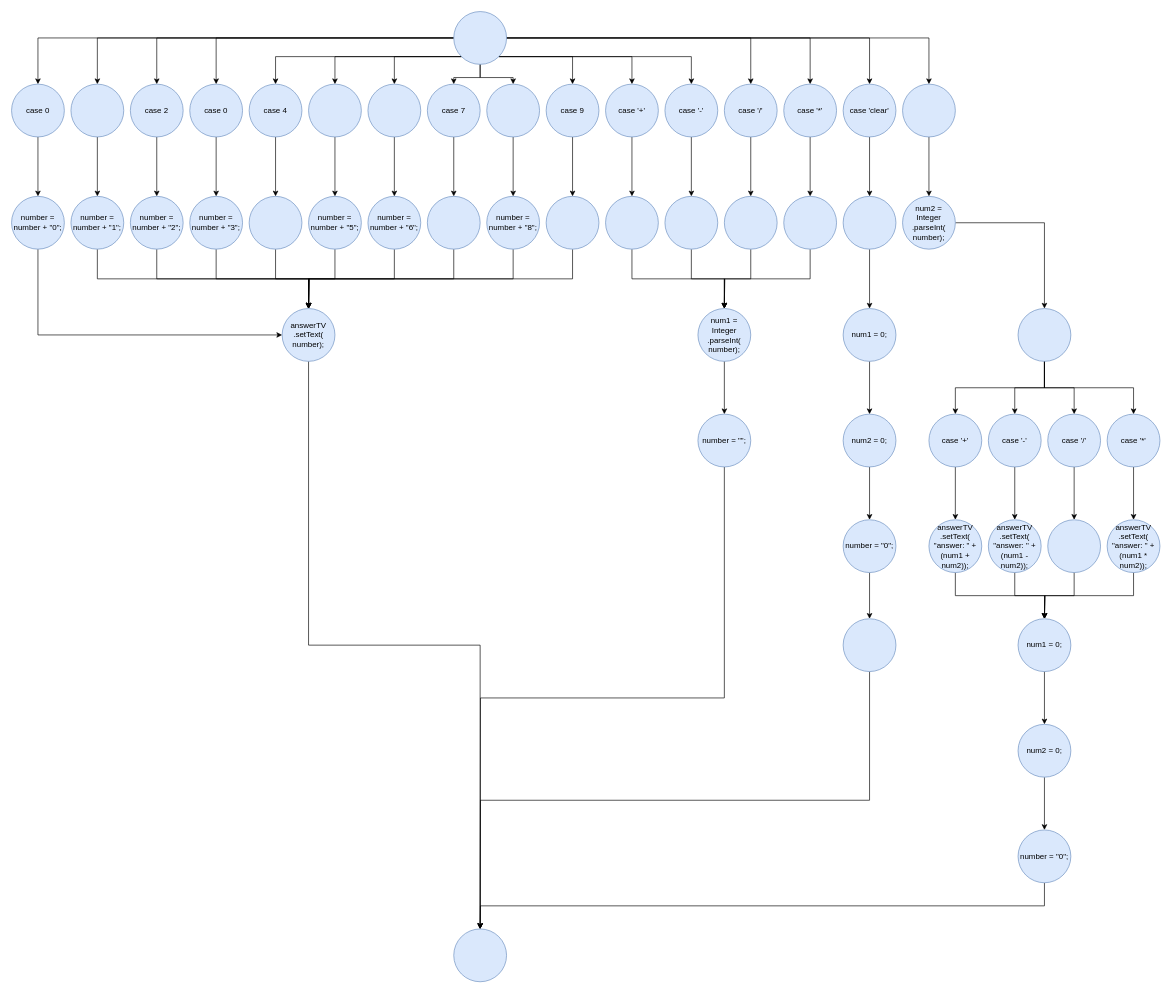
Some shapes in this 1172 by 993 pixel diagram are drawn without their labels. Each missing label, with the box of its shape:
answerTV .setText( "answer: " + (num1 / num2));: (1047, 519, 1101, 573)
answerTV .setText("");: (842, 618, 896, 672)
break;: (453, 928, 507, 982)
case '=': (902, 83, 955, 137)
case 1: (70, 83, 124, 137)
case 5: (308, 83, 361, 137)
case 6: (367, 83, 421, 137)
case 8: (486, 83, 540, 137)
number = number + "4";: (248, 196, 302, 249)
number = number + "7";: (427, 196, 480, 249)
number = number + "9";: (545, 196, 599, 249)
switch( symbol): (1017, 308, 1071, 361)
switch( view.getID): (453, 11, 507, 64)
symbol = "";: (842, 196, 896, 249)
symbol = "*";: (783, 196, 837, 249)
symbol = "+";: (605, 196, 658, 249)
symbol = "-";: (664, 196, 718, 249)
symbol = "/";: (724, 196, 777, 249)
